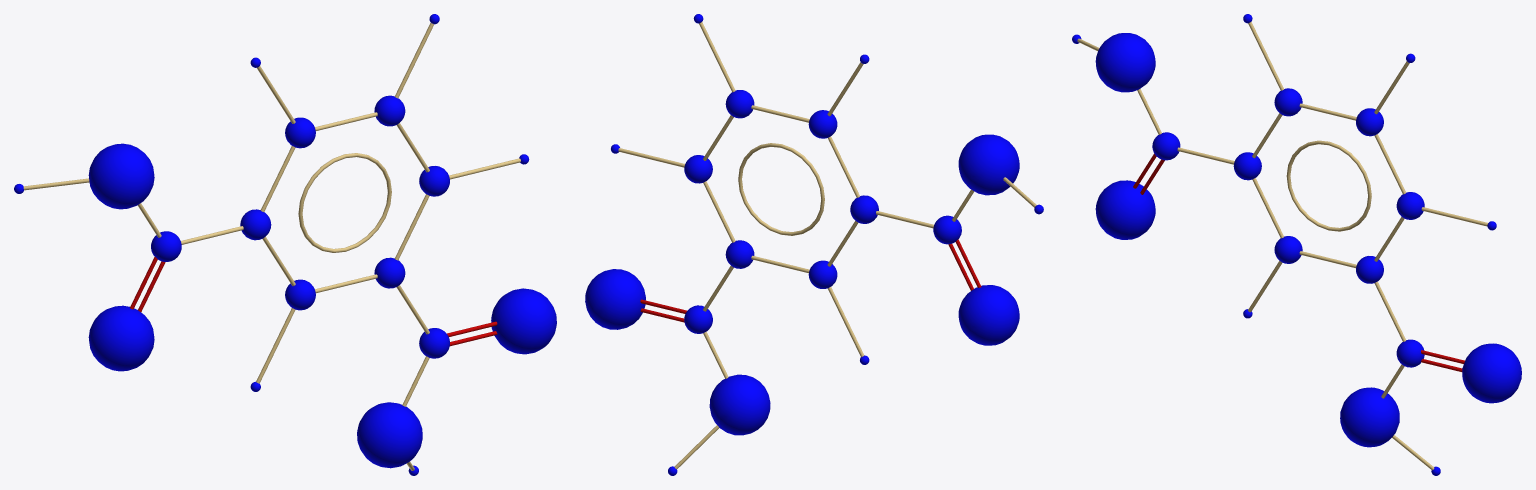
The model's file is VitaminC.fbx.
The picture shows the model from 3 angles, left to right: view 1: azimuth 30°, elevation 25°; view 2: azimuth 150°, elevation 25°; view 3: azimuth 330°, elevation 25°; orthographic projection. The views are drawn at different scales.
Visible parts, largest first — view 1: _933, _940; view 2: _933, _940; view 3: _933, _940.
Boxes of the visible parts, box(x1,y1,x2,y2) form: _933: box(14, 14, 556, 475); _940: box(298, 153, 391, 252); _933: box(585, 14, 1043, 475); _940: box(738, 143, 824, 235); _933: box(1072, 14, 1521, 475); _940: box(1286, 140, 1371, 231).
Bounding box in the file's own units: 2.49 × 2.22 × 0.3638.
